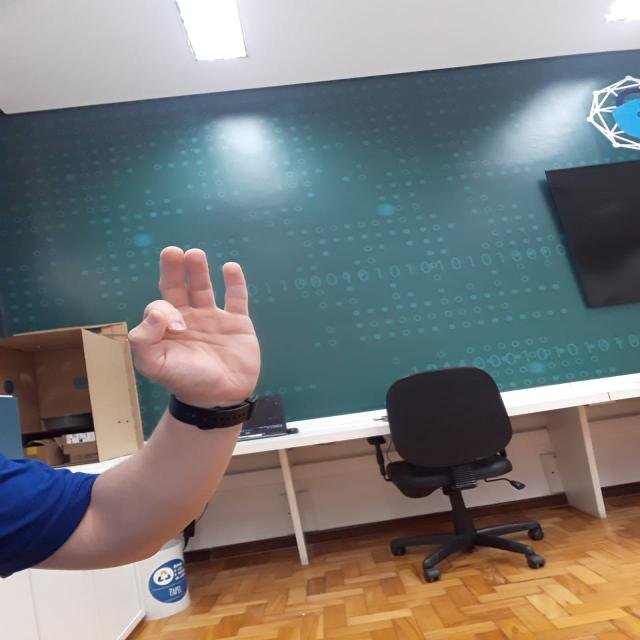F: (111, 235, 298, 448)
